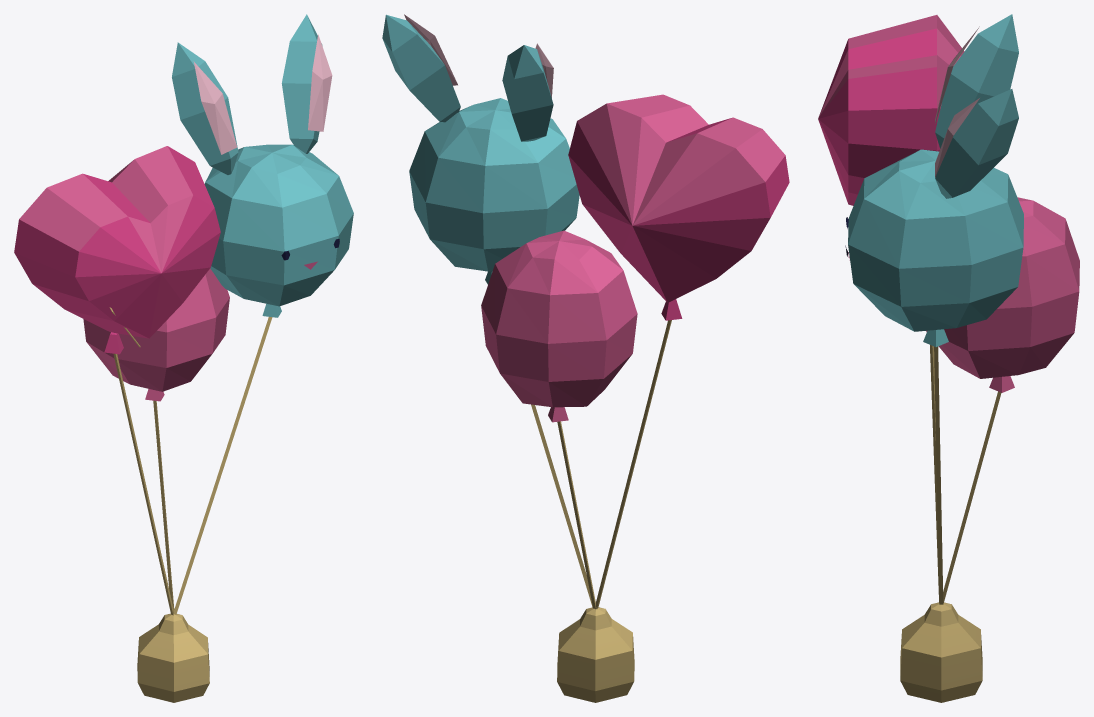
Rendered from balloons.glb.
3 views of the same model, side by side, from view 1: azimuth 30°, elevation 25°; view 2: azimuth 150°, elevation 25°; view 3: azimuth 270°, elevation 25° (orthographic). The views are drawn at different scales.
Parts seen in each view (by area): view 1: swing_mesh, root_mesh; view 2: swing_mesh, root_mesh; view 3: swing_mesh, root_mesh.
Boxes of the visible parts, x1=… form: swing_mesh: x1=14, y1=14, x2=353, y2=615; root_mesh: x1=137, y1=613, x2=209, y2=702; swing_mesh: x1=382, y1=14, x2=789, y2=609; root_mesh: x1=557, y1=607, x2=634, y2=702; swing_mesh: x1=818, y1=14, x2=1079, y2=604; root_mesh: x1=900, y1=602, x2=982, y2=702.
Bounding box in the file's own units: 2 × 3.5 × 1.2.
